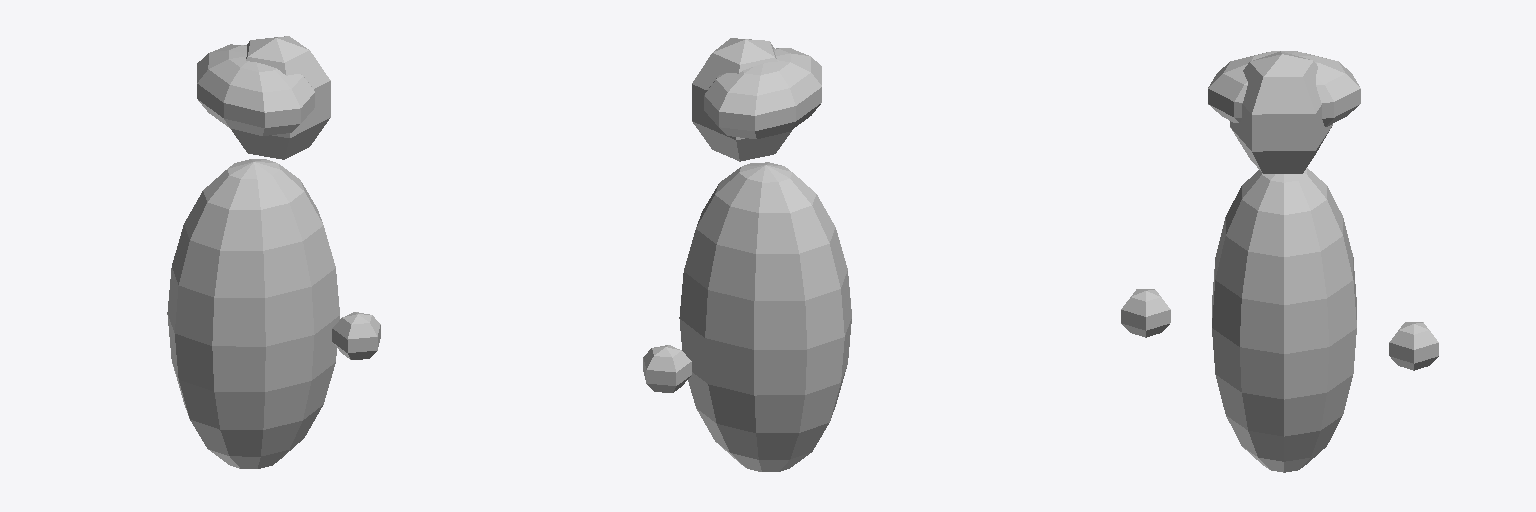
Rendered from character_2.obj.
3 views of the same model, side by side, from view 1: azimuth 30°, elevation 25°; view 2: azimuth 150°, elevation 25°; view 3: azimuth 270°, elevation 25° (orthographic).
Parts seen in each view (by area): view 1: character:body_GEO character:character_GRP polySurface1 Characte, Character2 Hair_old, character:character_GRP character:head_GEO polySurface1 Characte, character:character_GRP character:handR_geo polySurface1 Charact; view 2: character:body_GEO character:character_GRP polySurface1 Characte, Character2 Hair_old, character:character_GRP character:head_GEO polySurface1 Characte, character:character_GRP character:handL_geo polySurface1 Charact; view 3: character:body_GEO character:character_GRP polySurface1 Characte, character:character_GRP character:head_GEO polySurface1 Characte, Character2 Hair_old, character:character_GRP character:handR_geo polySurface1 Charact, character:character_GRP character:handL_geo polySurface1 Charact.
Boxes of the visible parts, <box> form: character:body_GEO character:character_GRP polySurface1 Characte: <box>167,159,339,468</box>; Character2 Hair_old: <box>197,44,314,135</box>; character:character_GRP character:head_GEO polySurface1 Characte: <box>231,36,330,159</box>; character:character_GRP character:handR_geo polySurface1 Charact: <box>332,312,380,359</box>; character:body_GEO character:character_GRP polySurface1 Characte: <box>679,162,851,471</box>; Character2 Hair_old: <box>704,48,821,138</box>; character:character_GRP character:head_GEO polySurface1 Characte: <box>692,38,791,161</box>; character:character_GRP character:handL_geo polySurface1 Charact: <box>643,345,691,392</box>; character:body_GEO character:character_GRP polySurface1 Characte: <box>1212,168,1356,472</box>; character:character_GRP character:head_GEO polySurface1 Characte: <box>1230,51,1332,173</box>; Character2 Hair_old: <box>1208,51,1360,126</box>; character:character_GRP character:handR_geo polySurface1 Charact: <box>1121,289,1170,337</box>; character:character_GRP character:handL_geo polySurface1 Charact: <box>1389,322,1438,370</box>.
Size of the model in its own units: 1.02 by 2.62 by 1.78.